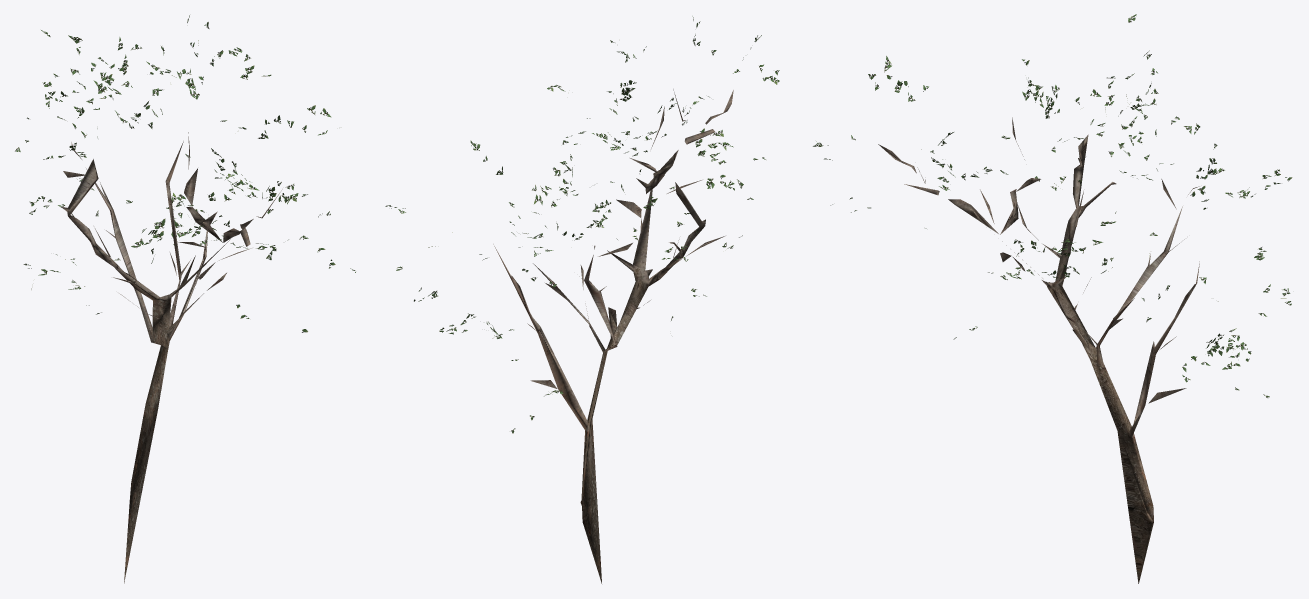
Rendered from tree_small_02_lod2.glb.
The picture shows the model from 3 angles, left to right: view 1: azimuth 30°, elevation 25°; view 2: azimuth 150°, elevation 25°; view 3: azimuth 270°, elevation 25°; orthographic projection. The views are drawn at different scales.
Parts seen in each view (by area): view 1: drivinglab.hero.tree.lod2-part2, drivinglab.hero.tree.lod2-part1, drivinglab.hero.tree.lod2-part0; view 2: drivinglab.hero.tree.lod2-part2, drivinglab.hero.tree.lod2-part1, drivinglab.hero.tree.lod2-part0; view 3: drivinglab.hero.tree.lod2-part2, drivinglab.hero.tree.lod2-part1, drivinglab.hero.tree.lod2-part0.
Boxes of the visible parts, x1=… form: drivinglab.hero.tree.lod2-part2: x1=61, y1=141, x2=240, y2=583; drivinglab.hero.tree.lod2-part1: x1=15, y1=15, x2=355, y2=332; drivinglab.hero.tree.lod2-part0: x1=63, y1=132, x2=282, y2=319; drivinglab.hero.tree.lod2-part2: x1=493, y1=150, x2=705, y2=583; drivinglab.hero.tree.lod2-part1: x1=385, y1=16, x2=779, y2=433; drivinglab.hero.tree.lod2-part0: x1=527, y1=89, x2=733, y2=388; drivinglab.hero.tree.lod2-part2: x1=948, y1=134, x2=1199, y2=583; drivinglab.hero.tree.lod2-part1: x1=813, y1=14, x2=1292, y2=397; drivinglab.hero.tree.lod2-part0: x1=878, y1=117, x2=1199, y2=403.
Bounding box in the file's own units: 2.41 × 4.47 × 3.7.
Materials: 3 (3 with a texture image).
